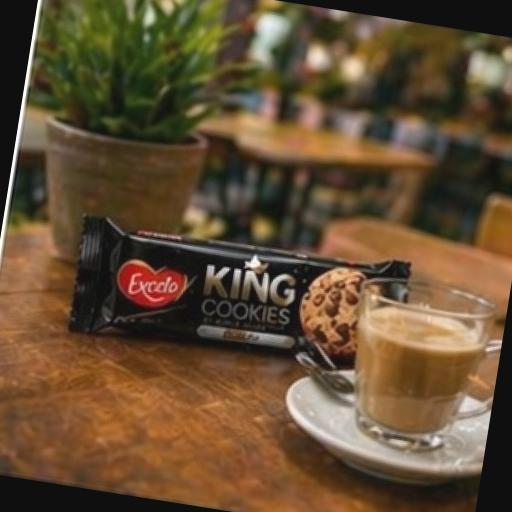king_cooking: (16, 124, 466, 462)
